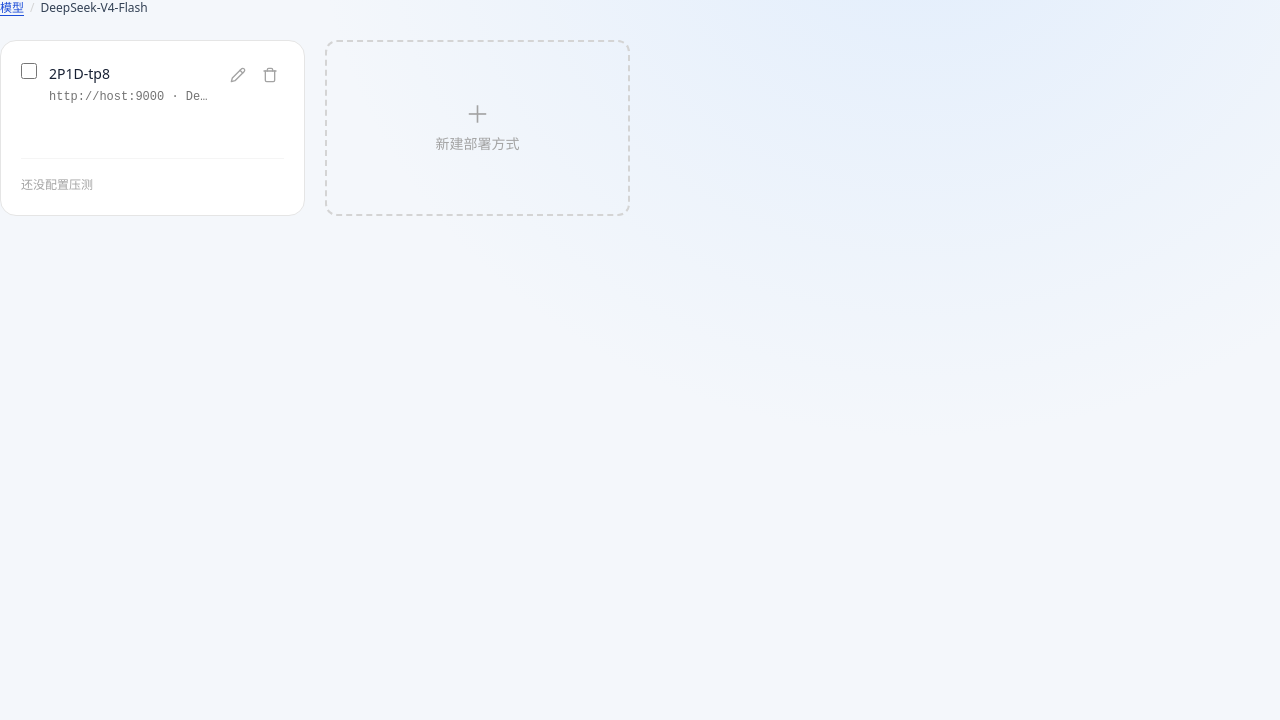
Test case: deleting a deployment asks first, then removes the card
Click the button named "删除 2P1D-tp8": (270, 75) [256, 61, 284, 89]
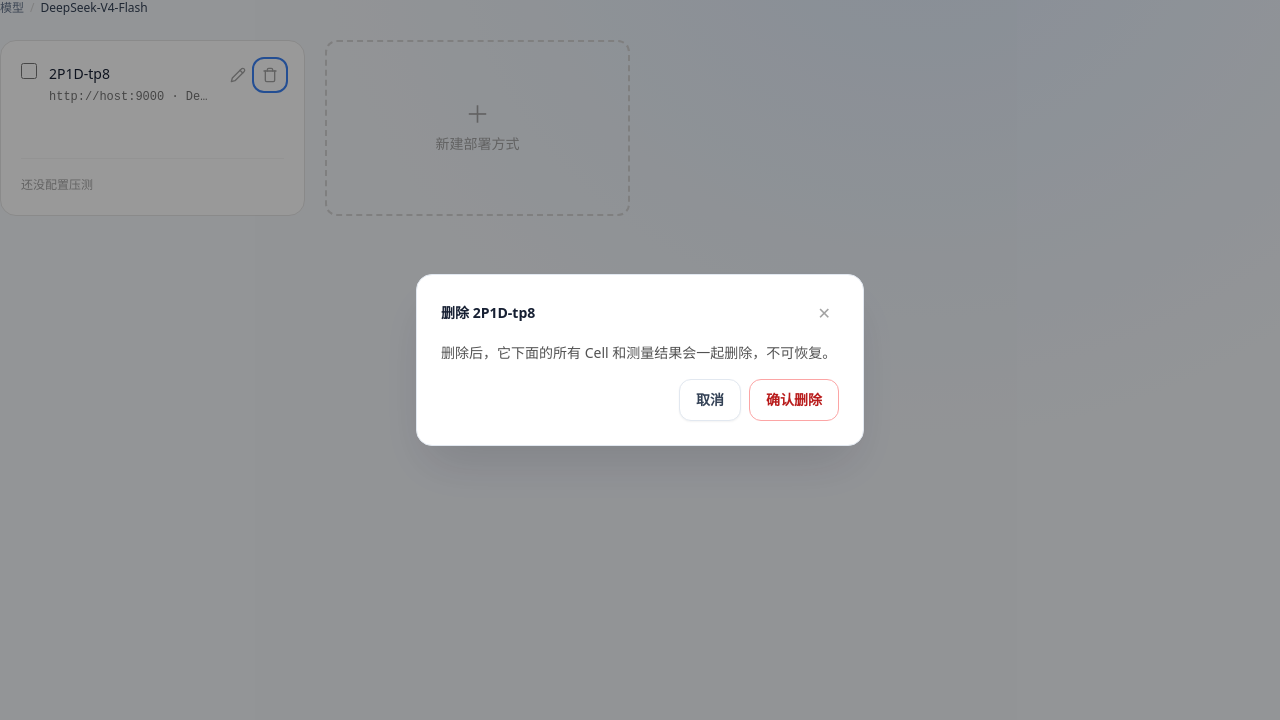
Check: the link "2P1D-tp8" is shown, box [49, 64, 110, 83]
Check: the text "删除后，它下面的所有 Cell 和测量结果会一起删除，不可恢复。" is shown, box [441, 343, 839, 363]
Click the button "确认删除": (794, 400) [749, 379, 839, 421]
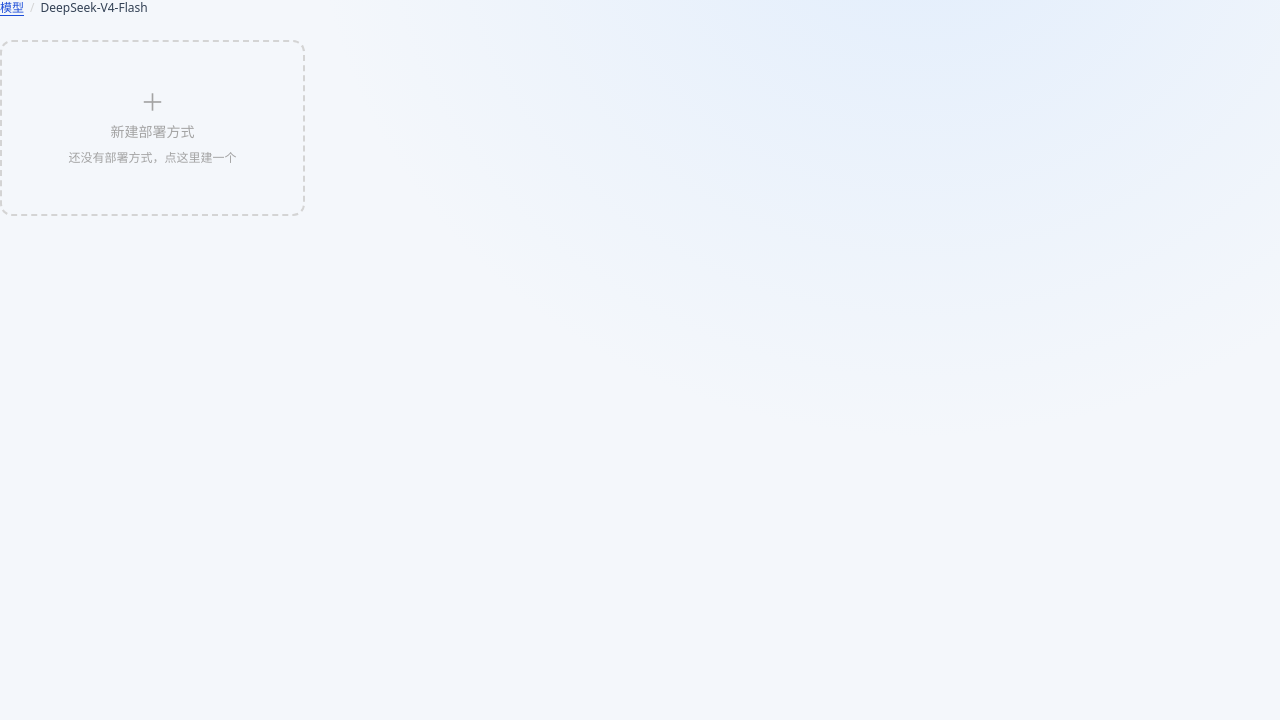
Check: the link "2P1D-tp8" is gone
